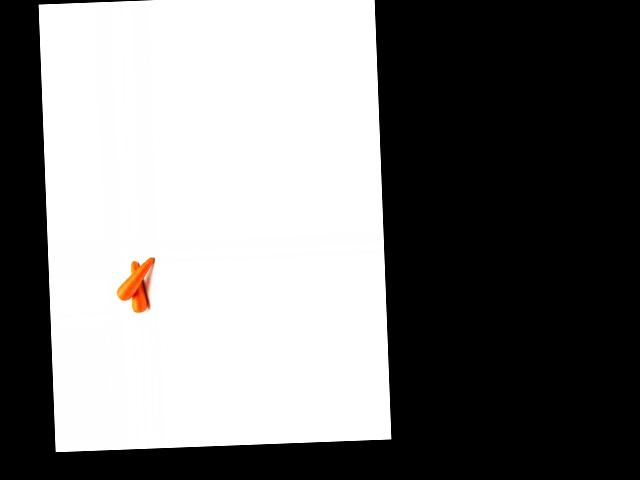carrot: (127, 254, 150, 316)
